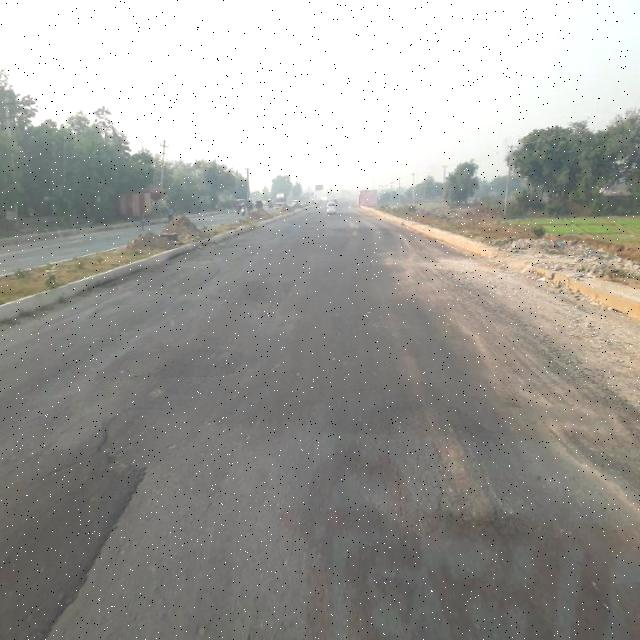D20: (382, 404, 516, 554)
